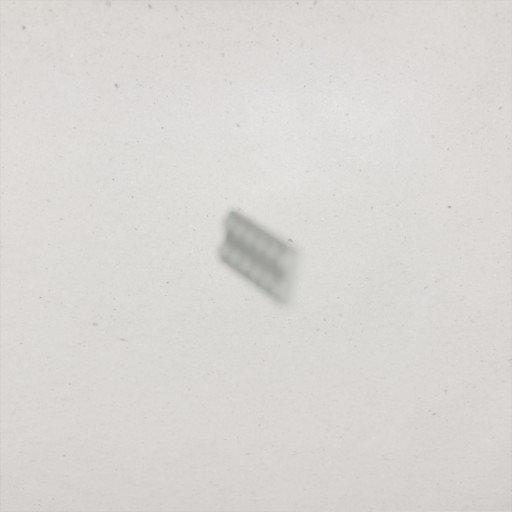lego: (217, 207, 304, 309)
